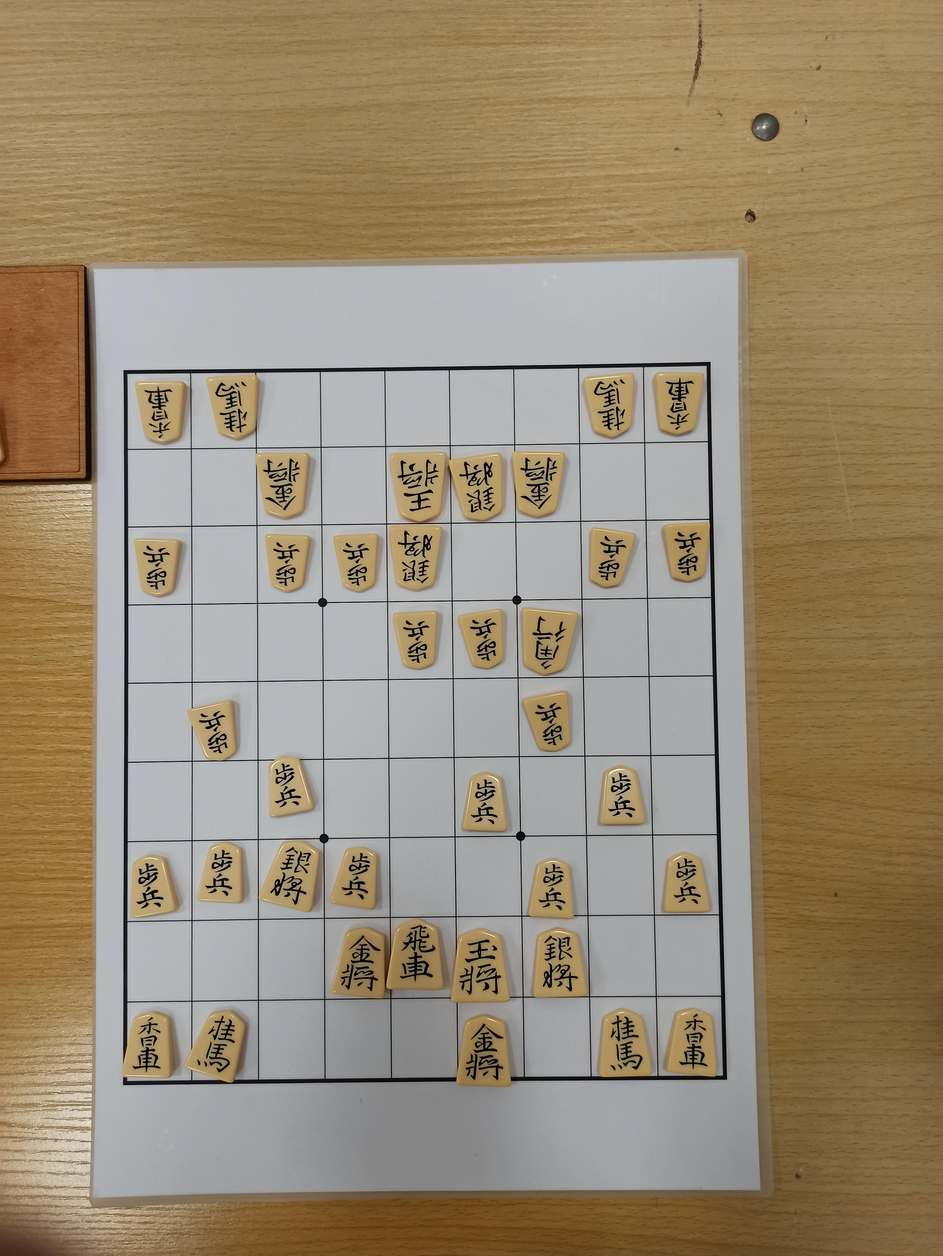board: (124, 363, 724, 1082)
